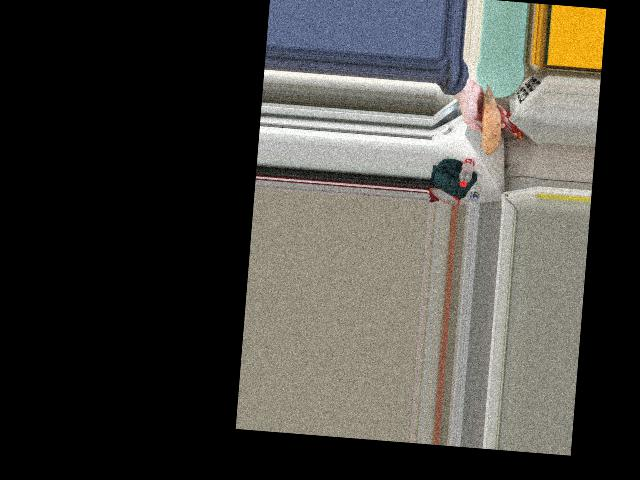sweet_potato: (477, 87, 500, 149)
